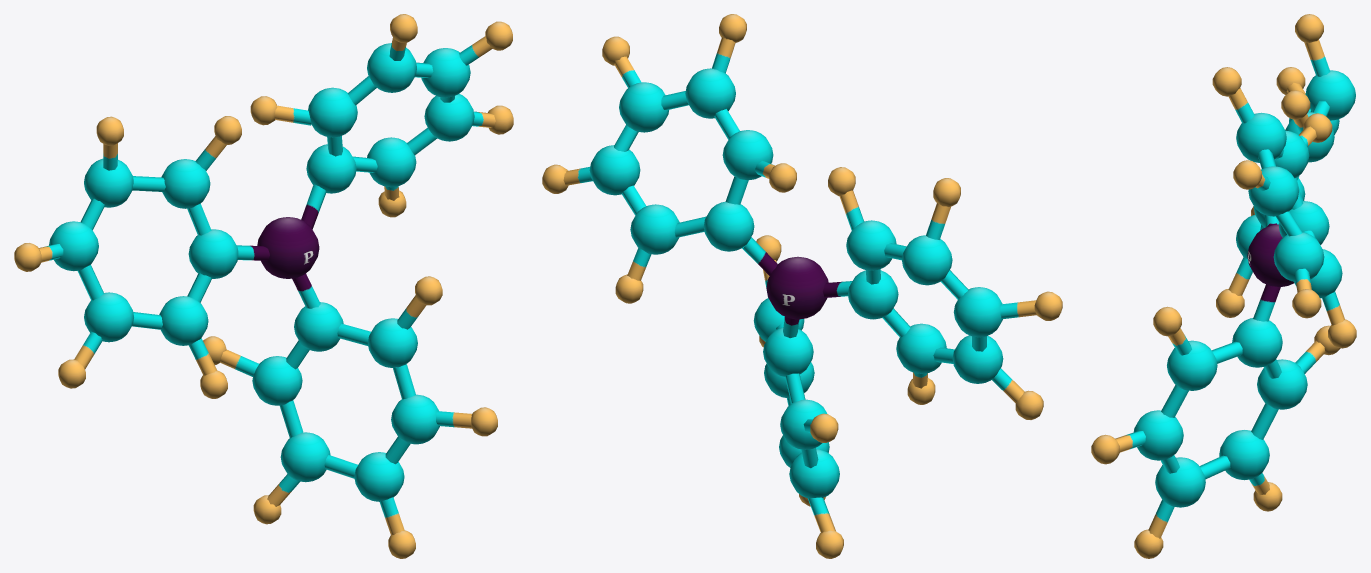
File: Triphenylphosphine.dae
3 views of the same model, side by side, from view 1: azimuth 30°, elevation 25°; view 2: azimuth 150°, elevation 25°; view 3: azimuth 270°, elevation 25° (orthographic).
Visible parts, largest first — view 1: polySurface72; view 2: polySurface72; view 3: polySurface72.
Part boxes in pixels (bbox=[...]): polySurface72: bbox=[14, 14, 513, 558]; polySurface72: bbox=[542, 14, 1062, 558]; polySurface72: bbox=[1091, 14, 1356, 558].
Size of the model in its own units: 8.97 by 8.56 by 4.05.
1 material, 1 textured.
